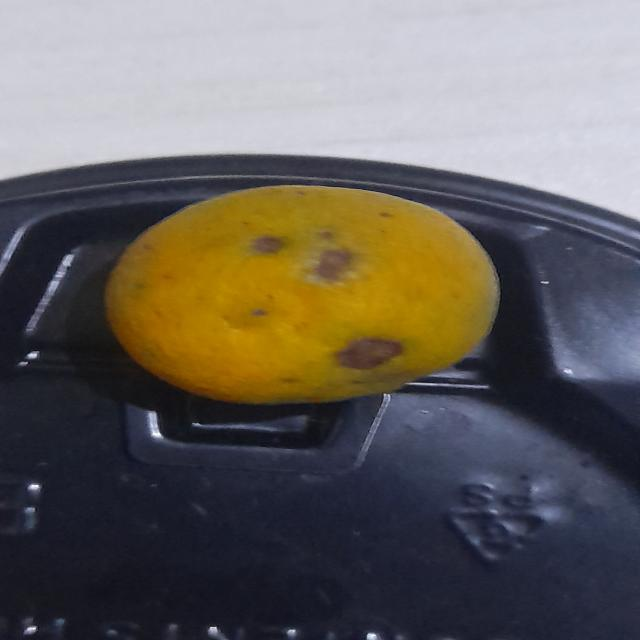black spot: (101, 183, 498, 407)
